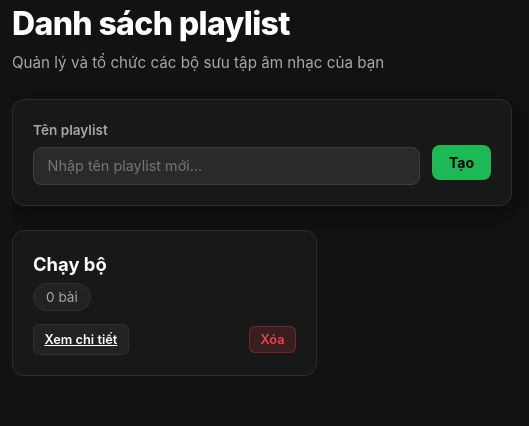
Scenario: Kiểm thử component PlaylistsPage › báo lỗi "Tên playlist đã tồn tại" khi tạo playlist trùng tên (không phân biệt hoa thường)
Expected: the heading "Chạy bộ" is shown, top-left (33, 253), bottom-right (107, 275)
In the field with placeholder "Nhập tên playlist mới...": (226, 166) top-left (33, 147), bottom-right (420, 185), type "chạy bộ"
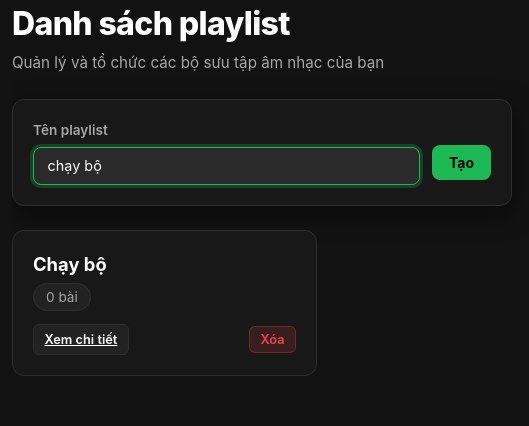
Click the button "Tạo": (462, 163) top-left (432, 145), bottom-right (491, 180)
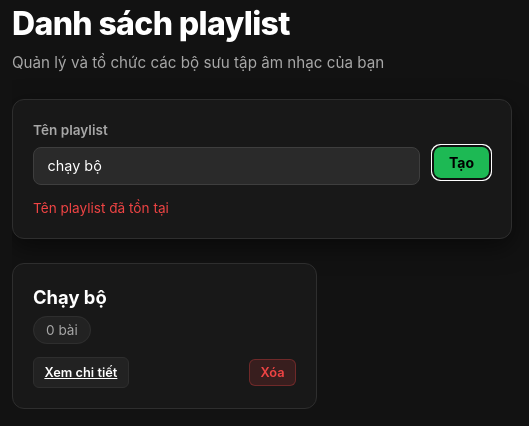
Expected: the text "Tên playlist đã tồn tại" is shown, top-left (33, 200), bottom-right (169, 216)
